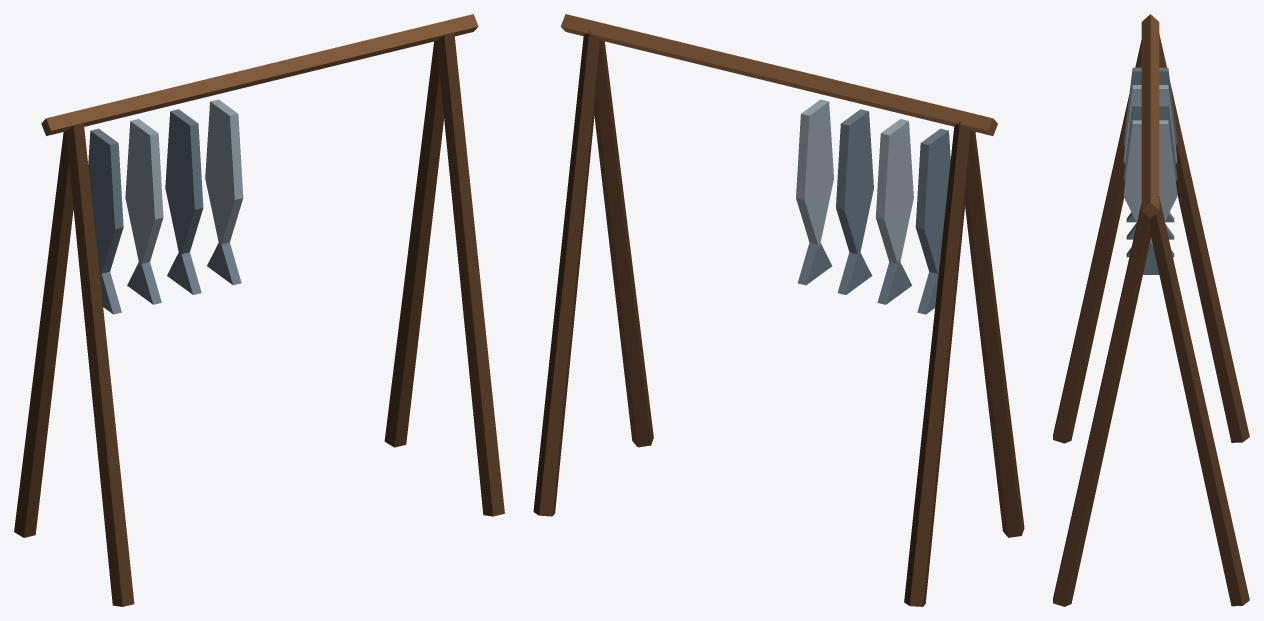
The model's file is pile_fish_1.glb.
The picture shows the model from 3 angles, left to right: view 1: azimuth 30°, elevation 25°; view 2: azimuth 150°, elevation 25°; view 3: azimuth 270°, elevation 25°; orthographic projection. The views are drawn at different scales.
Parts seen in each view (by area): view 1: pile_fish_1; view 2: pile_fish_1; view 3: pile_fish_1.
Part boxes in pixels (<box>): pile_fish_1: <box>14,14,504,606</box>; pile_fish_1: <box>533,14,1024,606</box>; pile_fish_1: <box>1053,14,1249,606</box>.
Bounding box in the file's own units: 1.5 × 1.54 × 0.6621.
